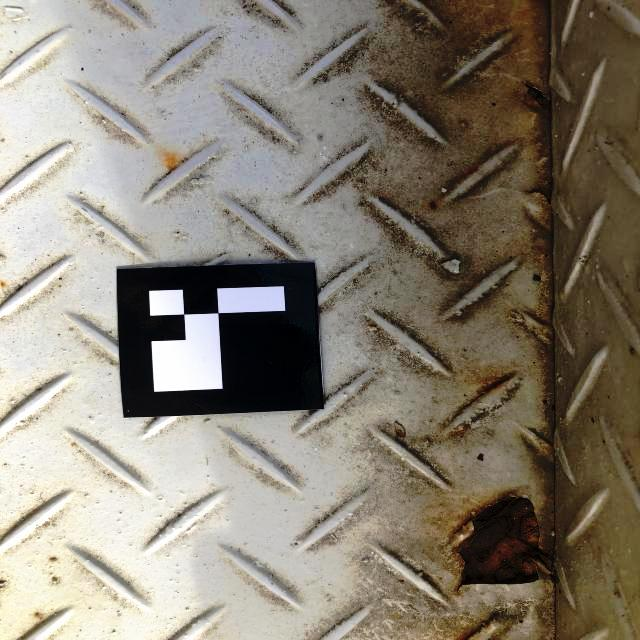Corrosion: (451, 497, 554, 586), (524, 80, 556, 116)
